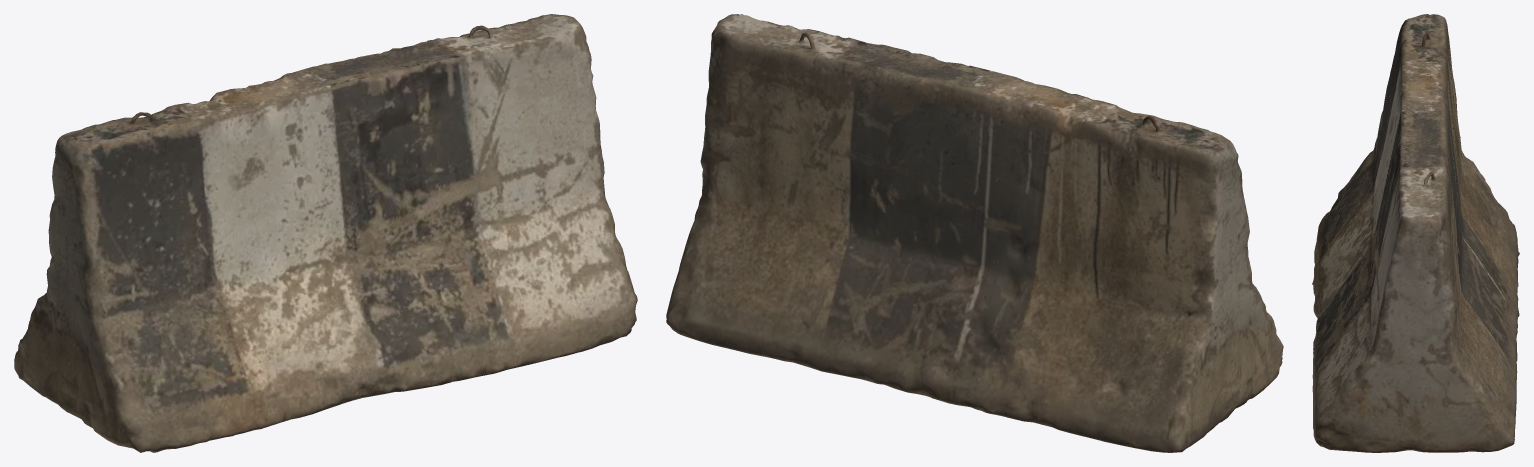
Rendered from desert_barrier.glb.
The picture shows the model from 3 angles, left to right: view 1: azimuth 30°, elevation 25°; view 2: azimuth 150°, elevation 25°; view 3: azimuth 270°, elevation 25°; orthographic projection. The views are drawn at different scales.
Parts seen in each view (by area): view 1: concrete_road_barrier; view 2: concrete_road_barrier; view 3: concrete_road_barrier.
Part boxes in pixels (box(x1,y1,x2,y2)): concrete_road_barrier: box(14, 14, 637, 452); concrete_road_barrier: box(666, 14, 1283, 452); concrete_road_barrier: box(1312, 14, 1519, 452).
Bounding box in the file's own units: 1.54 × 0.8303 × 0.6386.
Materials: 1 (1 with a texture image).
